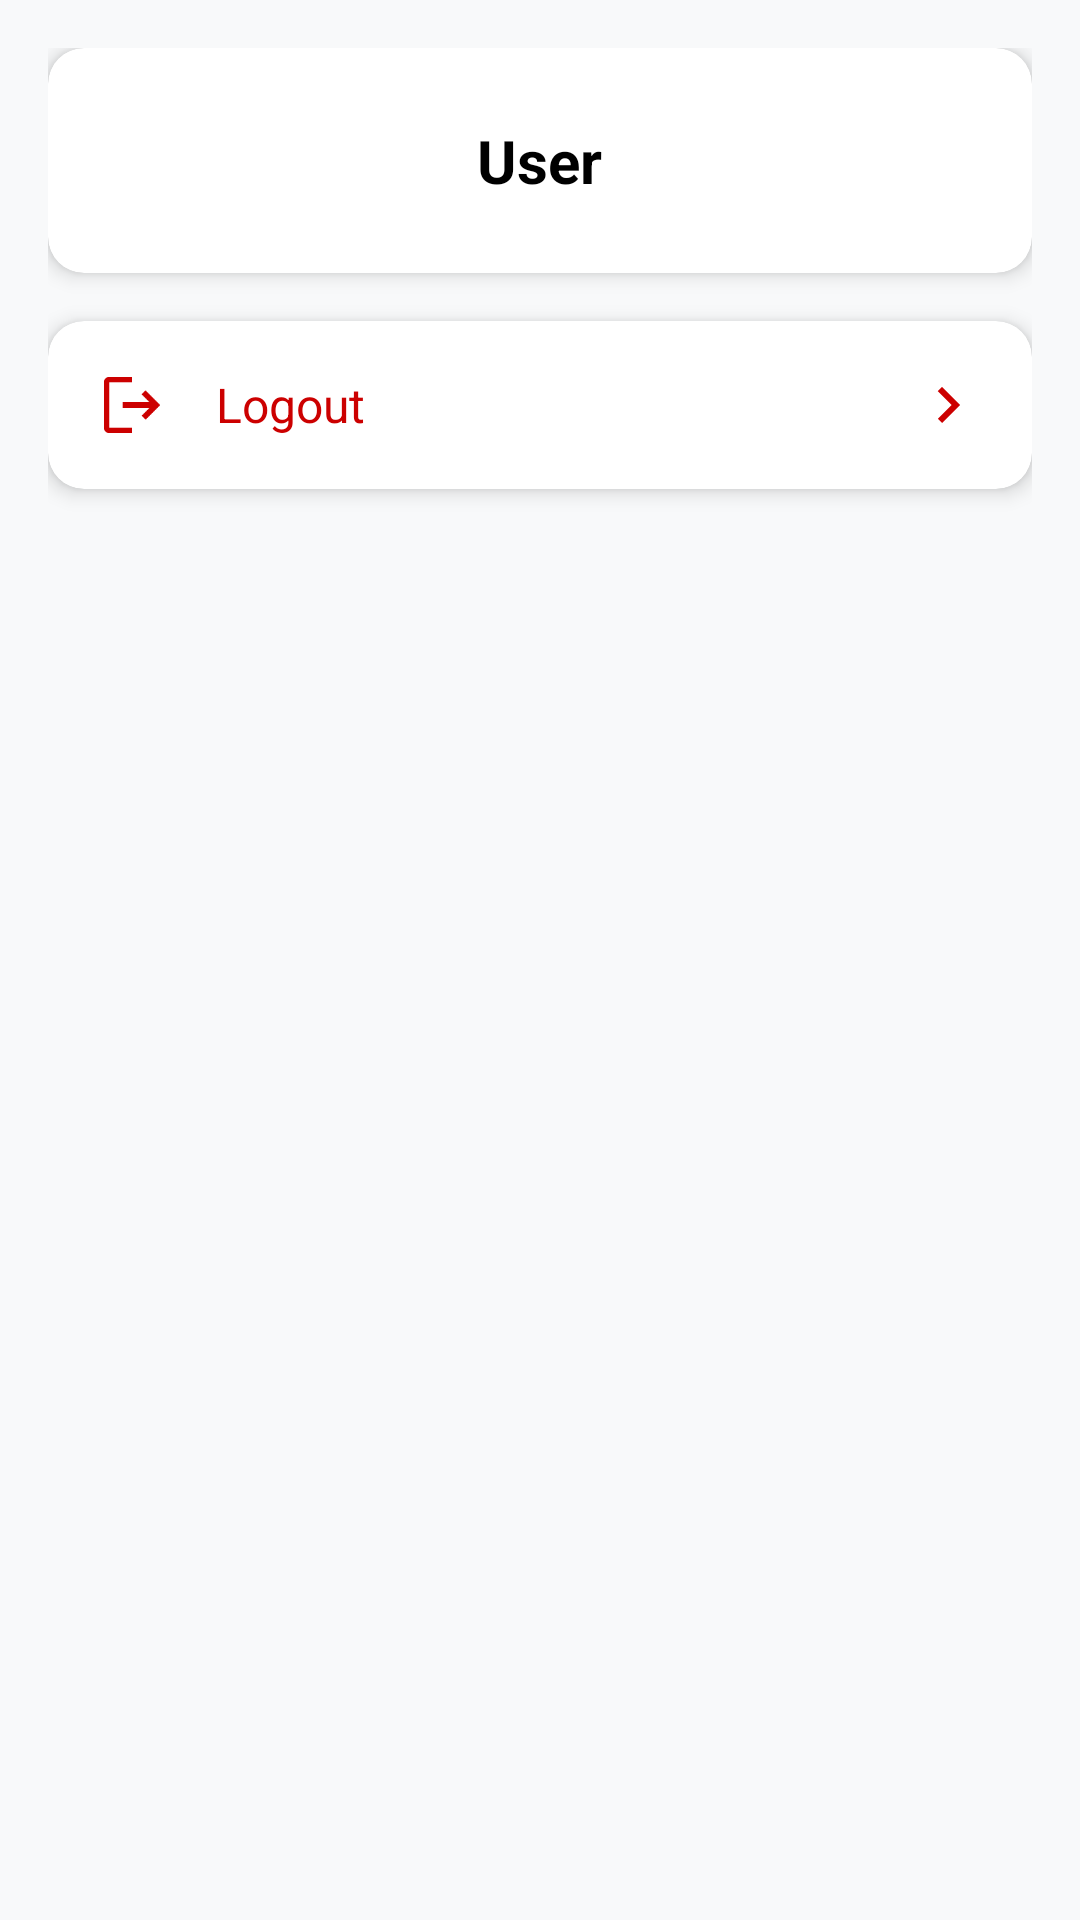

Named icons in this screenshot (1080 x 1920) and their bounding boxes, (left=x1, top=y1, right=x2, bottom=y2):
arrow right: (left=938, top=387, right=960, bottom=423)
